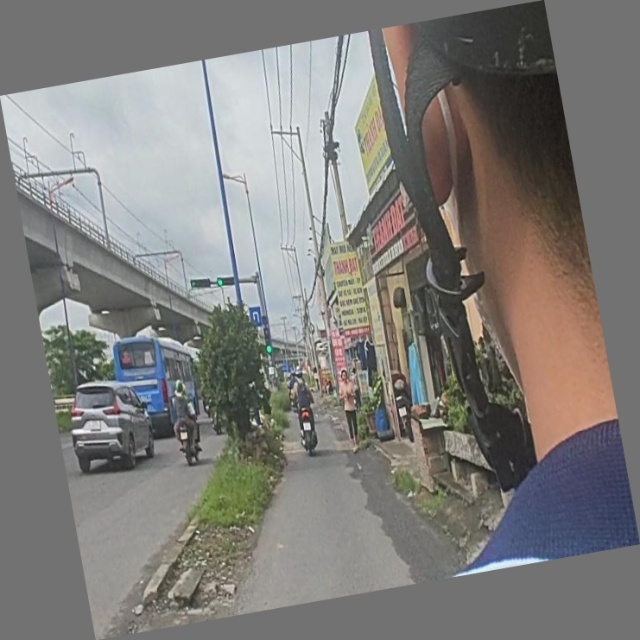I.409: (249, 303, 265, 329)
